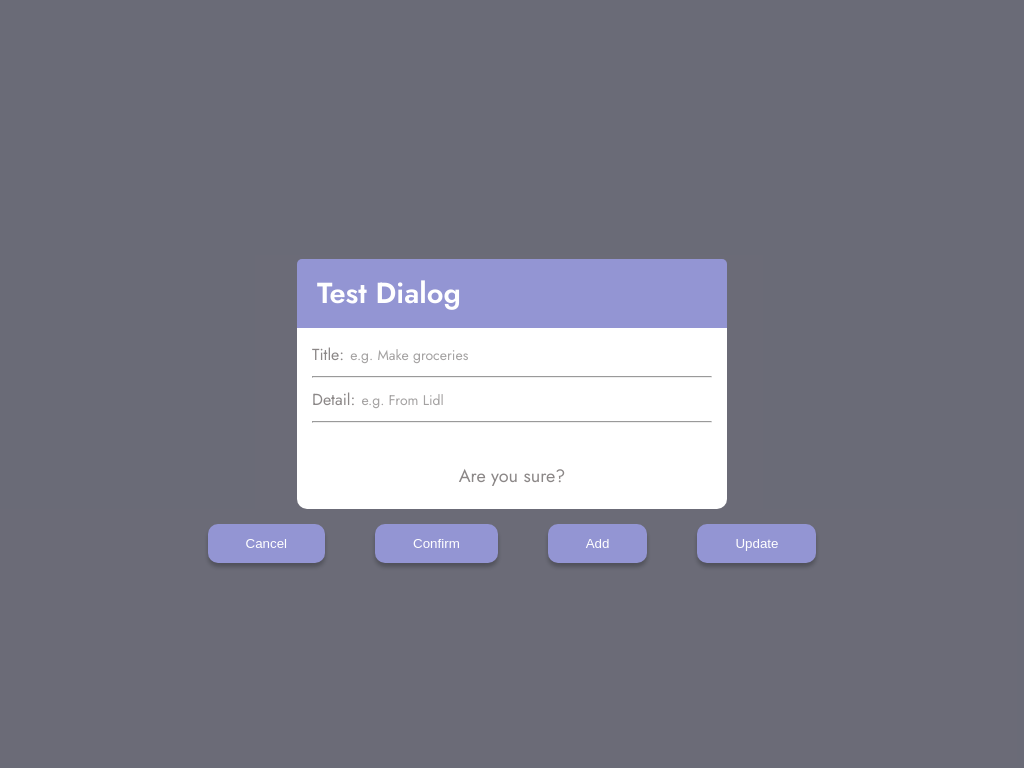
Test: Dialog component tests › it renders warning message when form is invalid
This screenshot has width=1024, height=768.
Click the button "Add".
click(598, 544)  # box [548, 524, 647, 563]
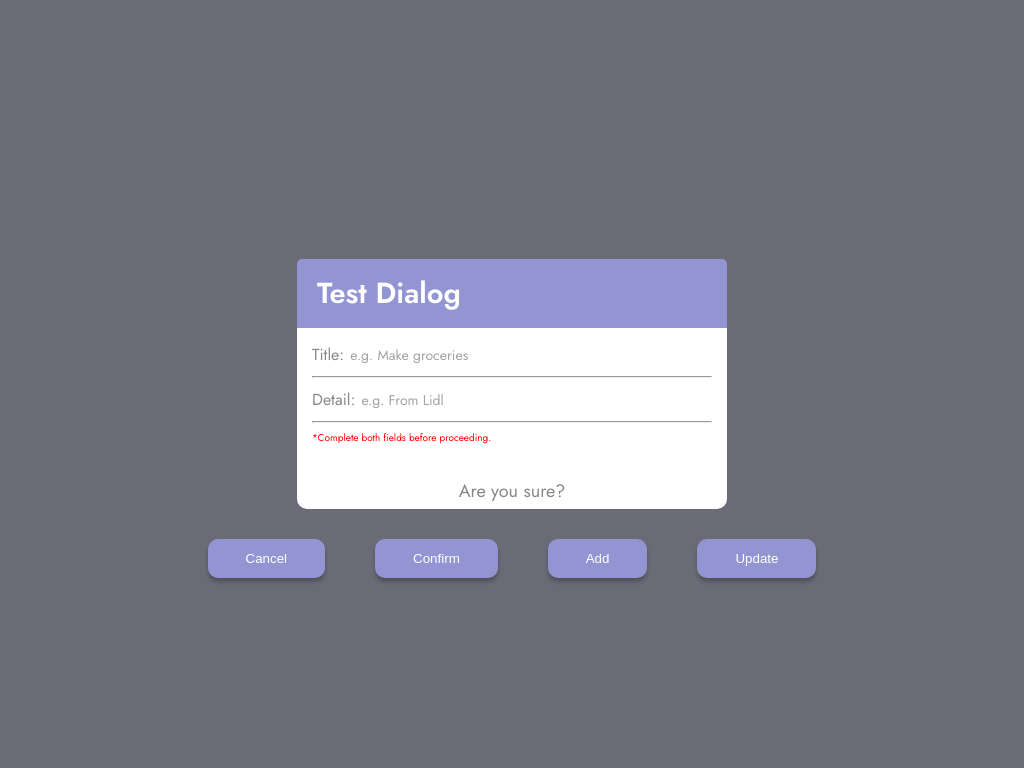
Expected: the text "*Complete both fields before proceeding." is shown, [312, 430, 491, 445]
